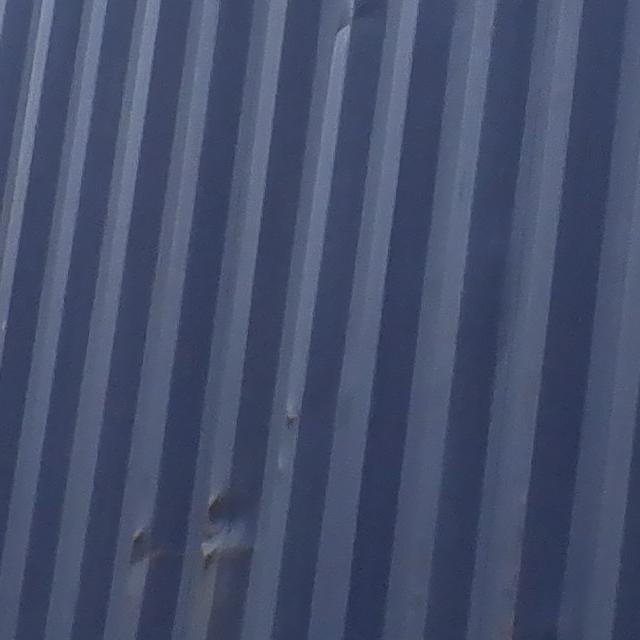dent: (180, 494, 265, 566)
